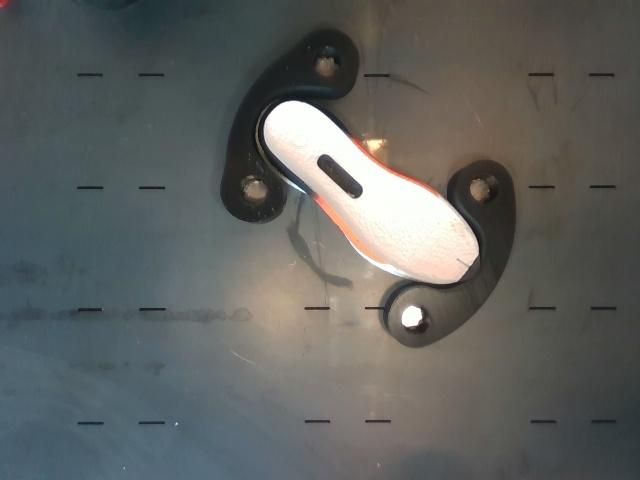shoes: (256, 99, 478, 285)
